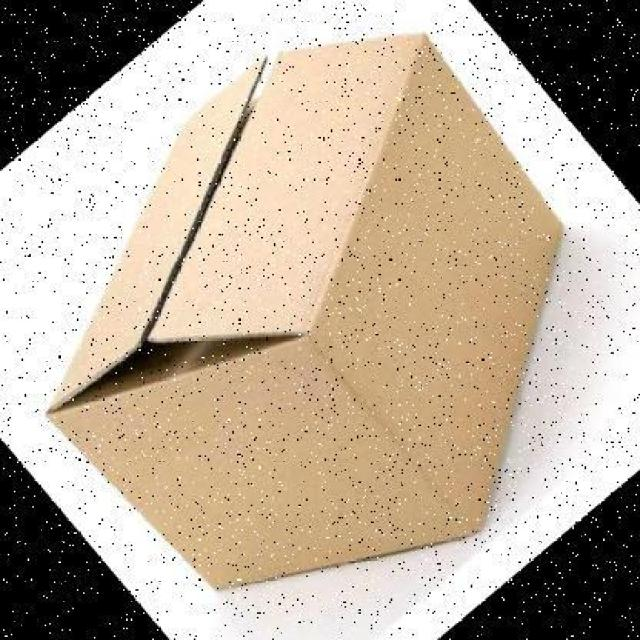box: (45, 33, 565, 593)
opened: (47, 35, 426, 417)
